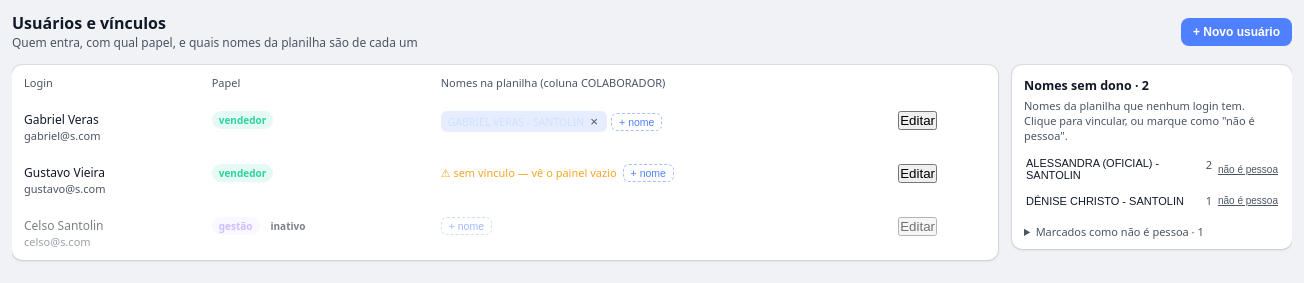
Test: Usuários e vínculos › '+ nome' busca sem acento/caixa e envia PUT vinculos com o id
Check: the text "Gabriel Veras" is shown, box [24,111,99,128]
Click the button "+ nome" next to "⚠ sem vínculo — vê o painel vazio".
click(648, 173)  # box [623,164,674,182]
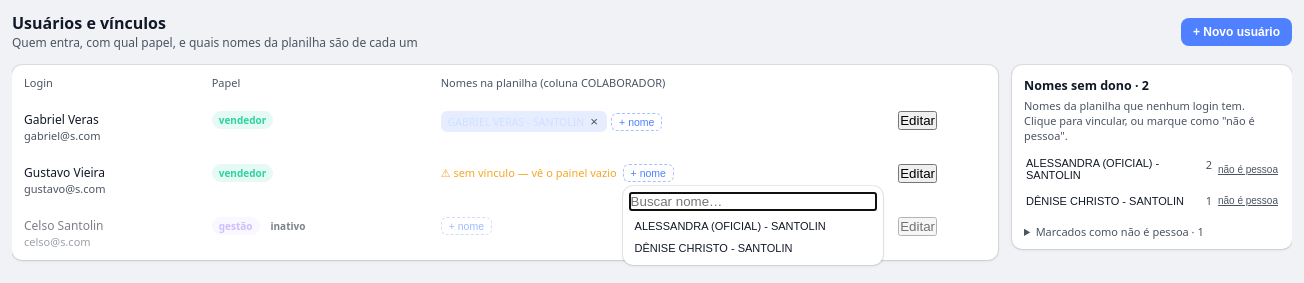
Type "denise" into the field labelled "Buscar nome".
click(753, 202); type("denise")  # box [629,192,877,211]
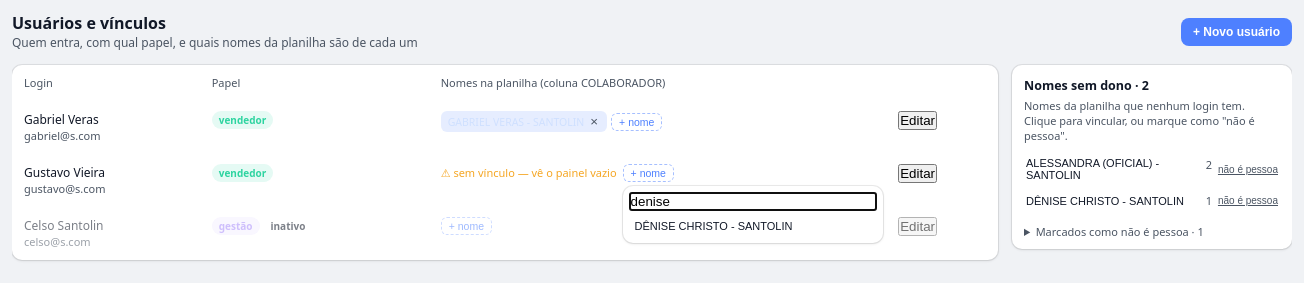
Click the button "DÊNISE CHRISTO - SANTOLIN" below "⚠ sem vínculo — vê o painel vazio".
click(753, 226)  # box [629,215,877,237]
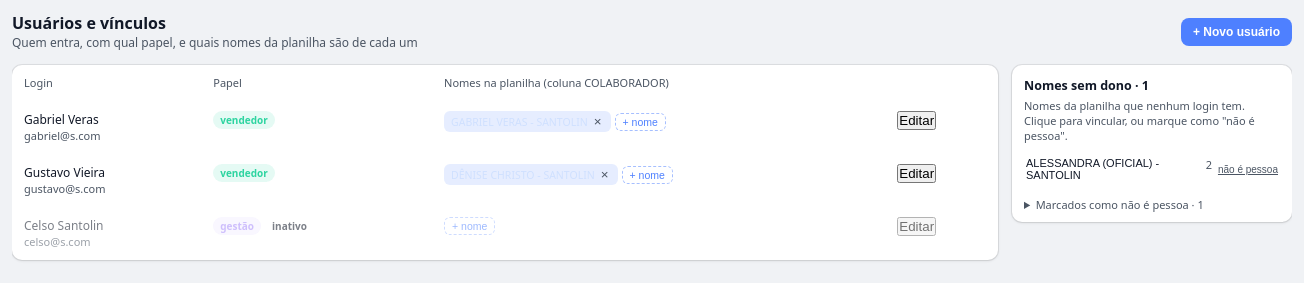
Check: the text "DÊNISE CHRISTO - SANTOLIN" is shown, box [451,168,595,182]
Check: the heading "Nomes sem dono · 1" is shown, box [1024,77,1149,94]
